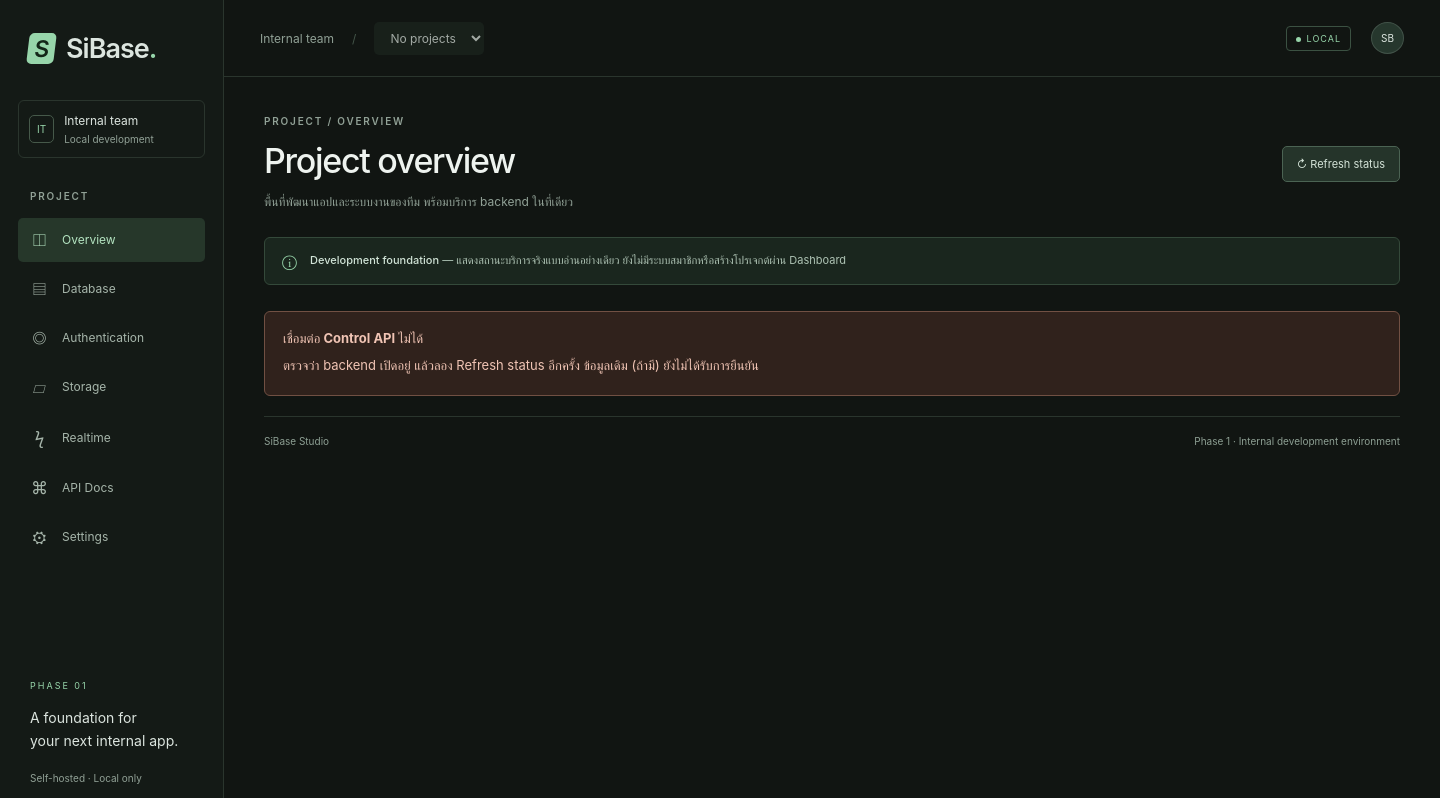
Dashboard foundation › handles API failure and retry
The image size is (1440, 798).
Expected: the message shows "เชื่อมต่อ Control API ไม่ได้", [283,330,423,346]
Click the button "↻ Refresh status" at (1341, 164), box [1282,146,1400,182]
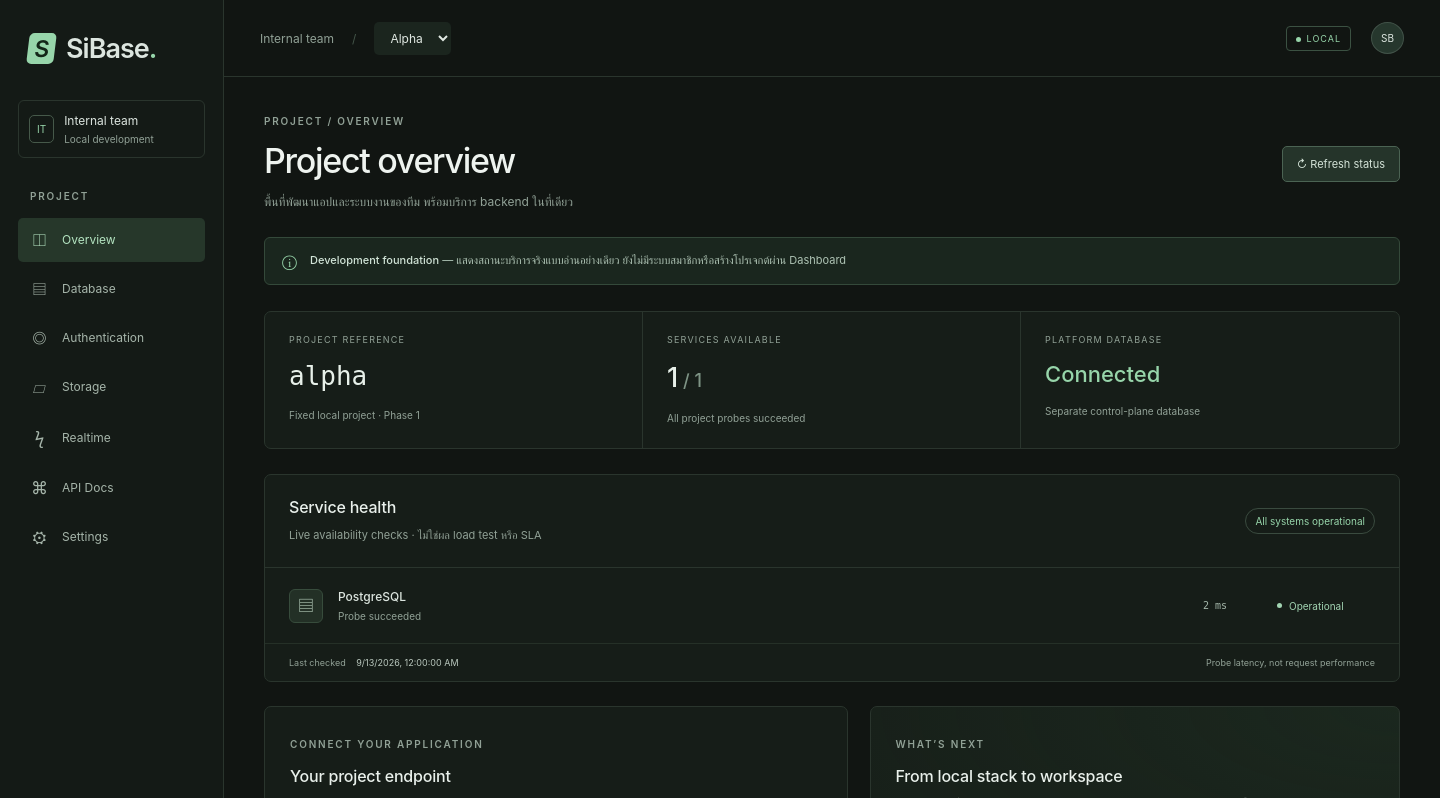
Result: the text "All systems operational" is shown at [1245,508,1375,534]
Result: the message is gone
